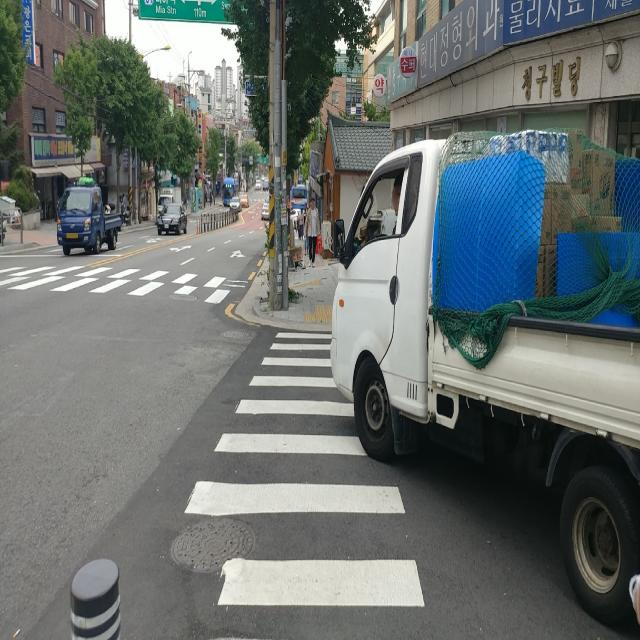횡단보도: (183, 331, 424, 608), (3, 257, 231, 304)
